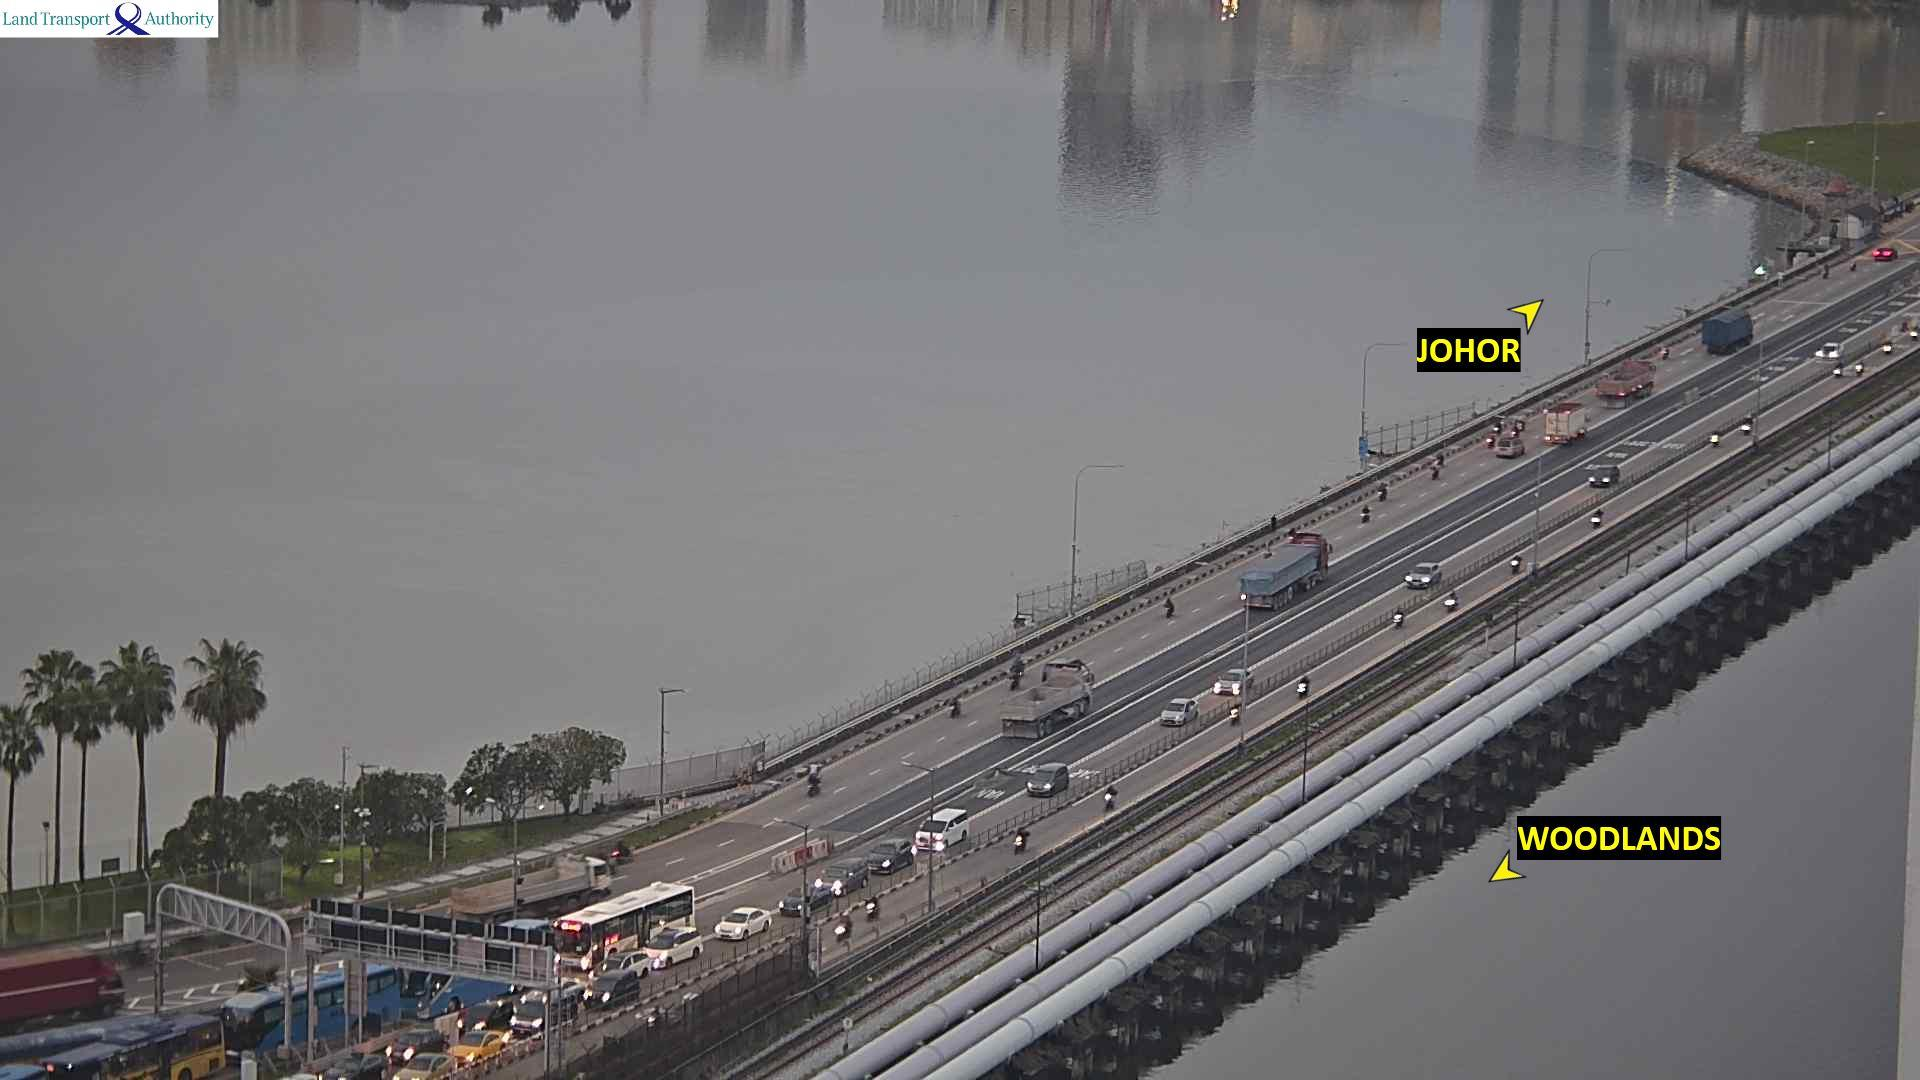vehicle-causeway-johor: (450, 857, 607, 920), (3, 949, 112, 997), (1596, 363, 1652, 406), (1702, 311, 1753, 353), (1542, 404, 1584, 443), (1006, 655, 1023, 688), (1497, 438, 1526, 456), (804, 771, 820, 799), (942, 695, 959, 719), (611, 844, 632, 861), (1873, 247, 1898, 260), (1164, 596, 1176, 617), (1511, 419, 1526, 435), (1360, 506, 1371, 521), (1429, 464, 1441, 479), (1377, 483, 1387, 498), (1659, 347, 1669, 360), (1436, 452, 1445, 464), (1822, 265, 1829, 278), (1850, 257, 1857, 269)
vehicle-causeway-singapore: (233, 964, 539, 1039), (46, 1021, 240, 1080), (556, 886, 700, 959), (0, 981, 123, 1035), (1236, 550, 1327, 608), (0, 1027, 103, 1069), (1002, 699, 1095, 740), (914, 812, 973, 852), (583, 972, 646, 1007), (716, 906, 773, 936), (324, 1054, 388, 1080), (818, 862, 868, 893), (779, 886, 832, 914), (396, 1054, 451, 1080), (860, 841, 910, 870), (463, 998, 513, 1026), (1029, 767, 1073, 796), (1156, 699, 1200, 727), (1404, 558, 1441, 589), (1213, 669, 1254, 692), (1589, 465, 1619, 487), (1817, 340, 1842, 361), (1100, 786, 1117, 814), (835, 913, 851, 939), (1444, 591, 1458, 616), (1015, 829, 1031, 851), (1298, 674, 1312, 696), (1229, 704, 1241, 725), (868, 898, 878, 920), (1393, 605, 1402, 630), (1592, 508, 1604, 526), (1510, 554, 1520, 572), (1742, 417, 1751, 433), (1710, 430, 1718, 447), (1855, 361, 1865, 375), (1834, 364, 1842, 378), (1912, 324, 1920, 339), (1883, 342, 1891, 355), (1902, 320, 1908, 334)
